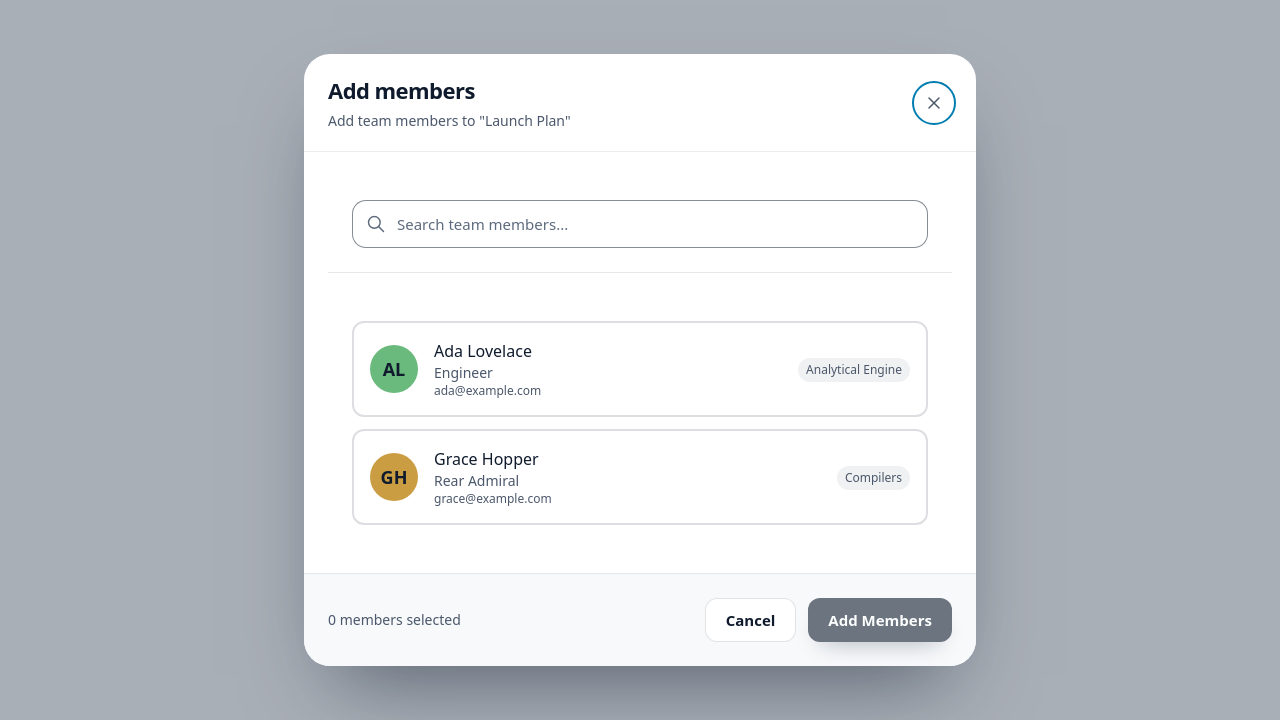
Test: AddMemberModal selecting › lets a chosen person be taken off again from their chip
Check: the heading "Ada Lovelace" is shown, box 434,340 -> 532,362
Click the button "AL Ada Lovelace Engineer ada@example.com Analytical Engine": (394, 369) 352,321 -> 928,417
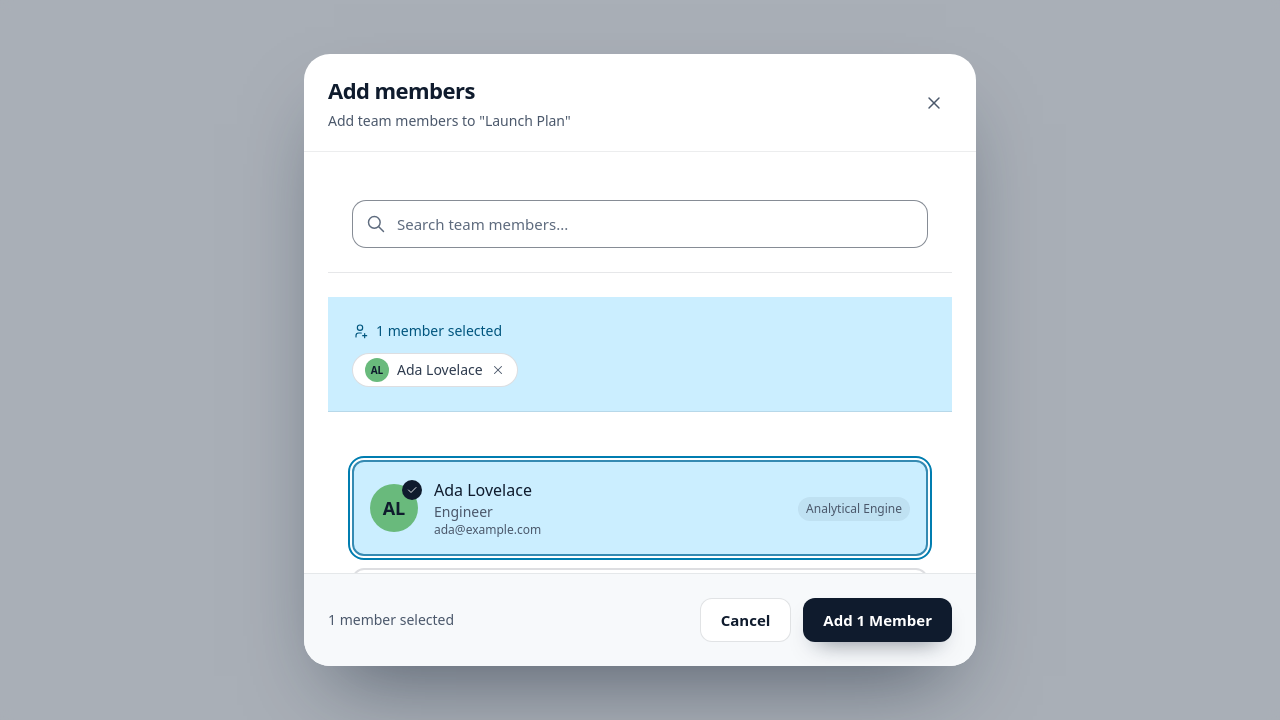
Click the button named "Remove Ada Lovelace": (498, 370) 491,363 -> 505,377
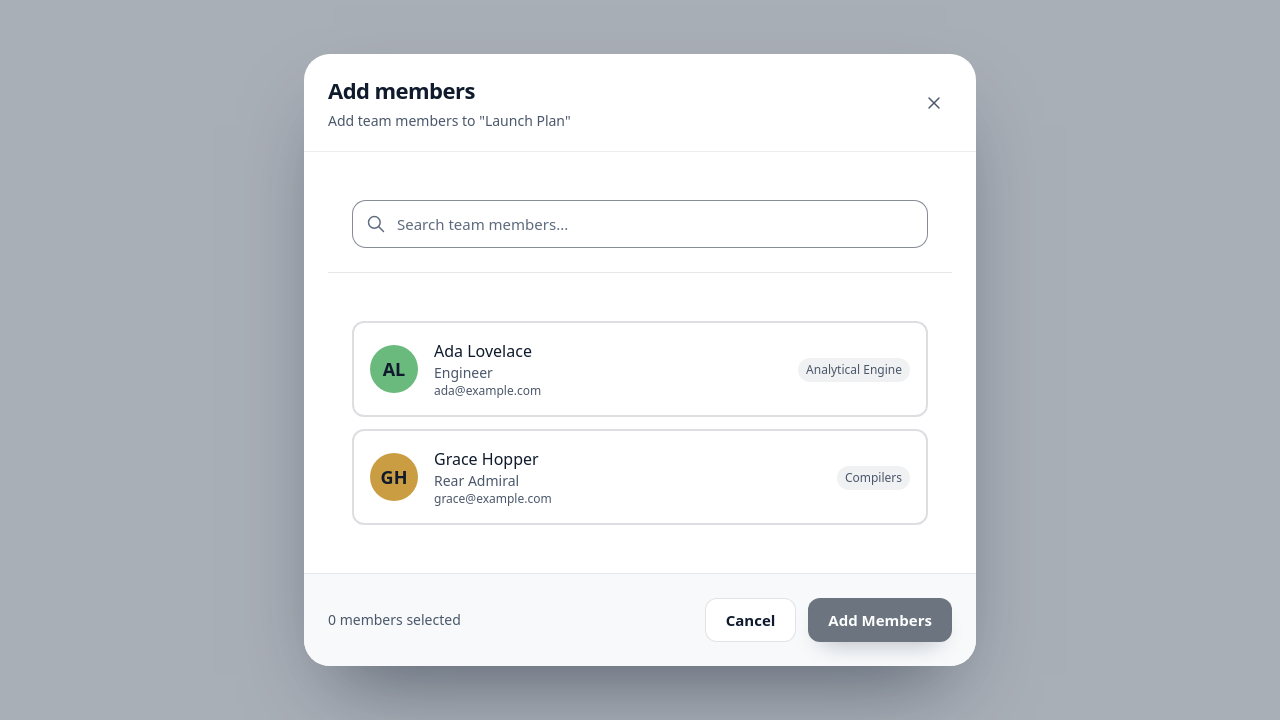
Check: the button "Add Members" is disabled, box 808,598 -> 952,642
